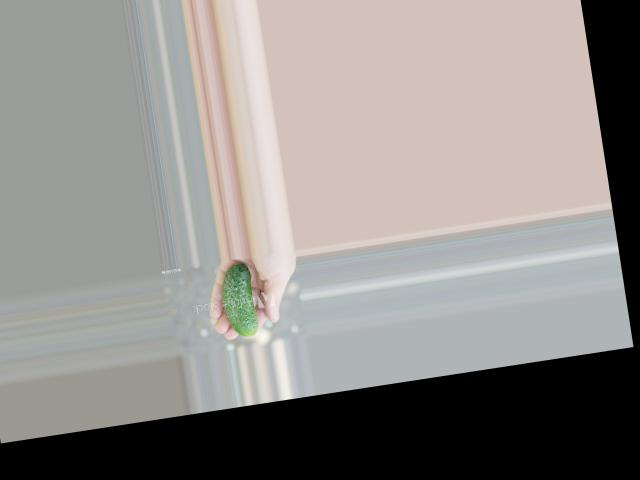cucumber: (216, 261, 259, 338)
